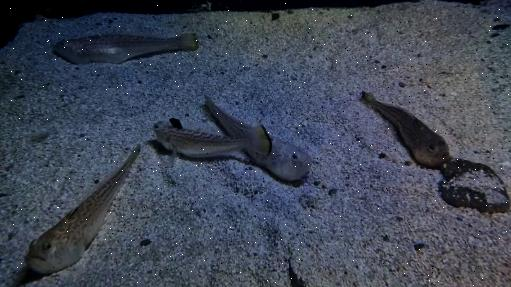Fish: (25, 145, 140, 275), (362, 92, 451, 168), (154, 119, 271, 165), (54, 35, 198, 64), (247, 138, 312, 182), (288, 259, 302, 286)
